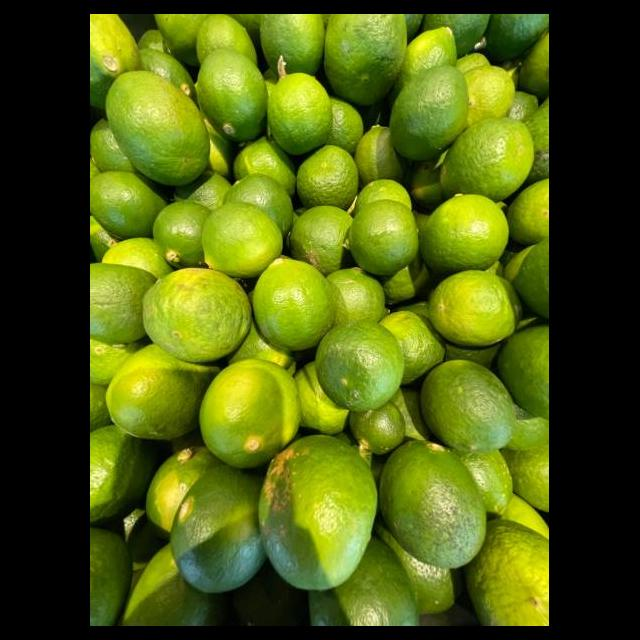lime: (262, 436, 380, 594), (104, 71, 212, 190), (250, 257, 338, 354)
